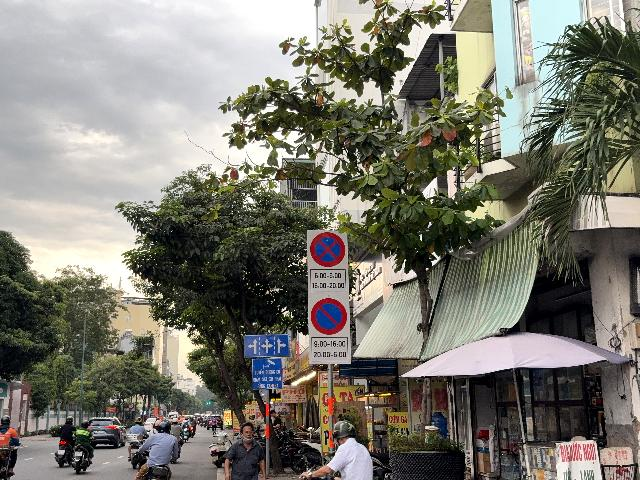cam-do-xe: (311, 298, 347, 335)
cam-dung-va-do-xe: (310, 232, 346, 267)
